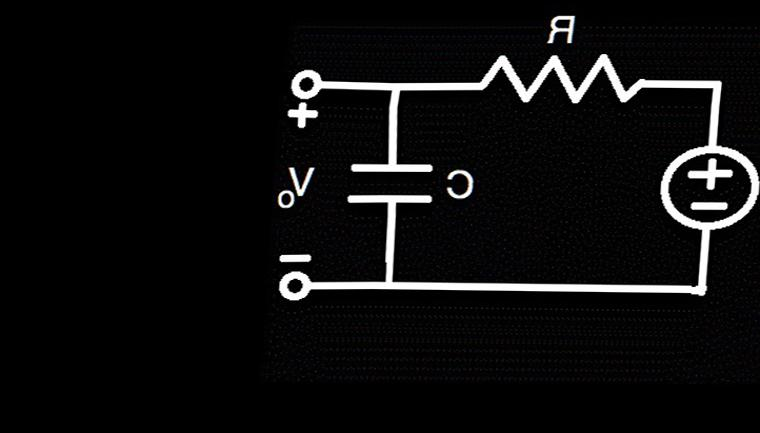Battery: (639, 128, 759, 241)
